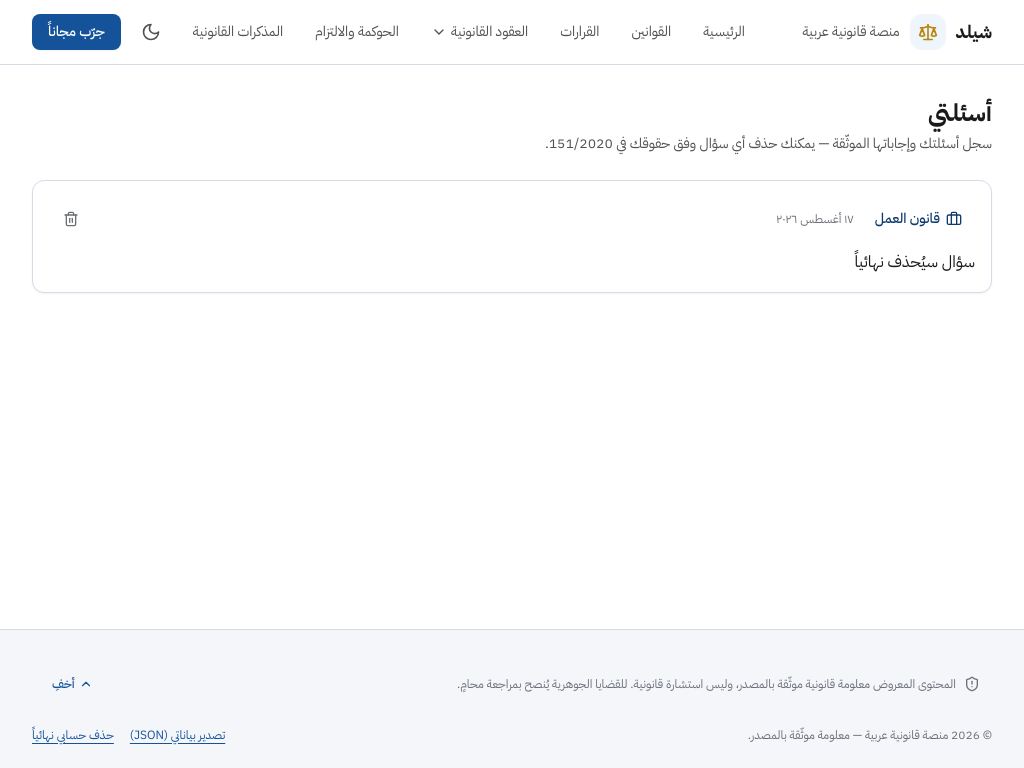
Test case: MyQuestionsPage › يحذف سؤالاً عبر مودال التأكيد → DELETE /questions/{id} ثم يعرض الحالة الفارغة
Expected: the text "سؤال سيُحذف نهائياً" is shown, [854, 250, 975, 274]
فتح مودال التأكيد
Click the button named "حذف السؤال: سؤال سيُحذف نهائياً".
click(71, 219)  # box [49, 197, 93, 241]
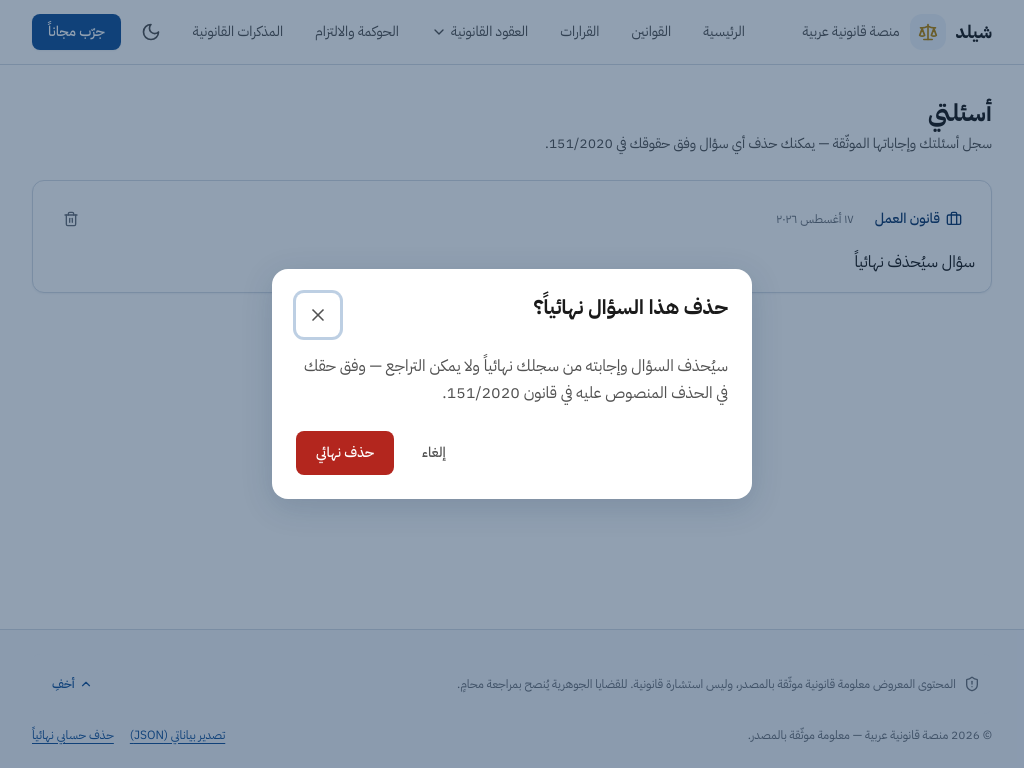
Now the dialog is shown
Click the button "حذف نهائي".
click(345, 453)  # box [296, 431, 394, 475]
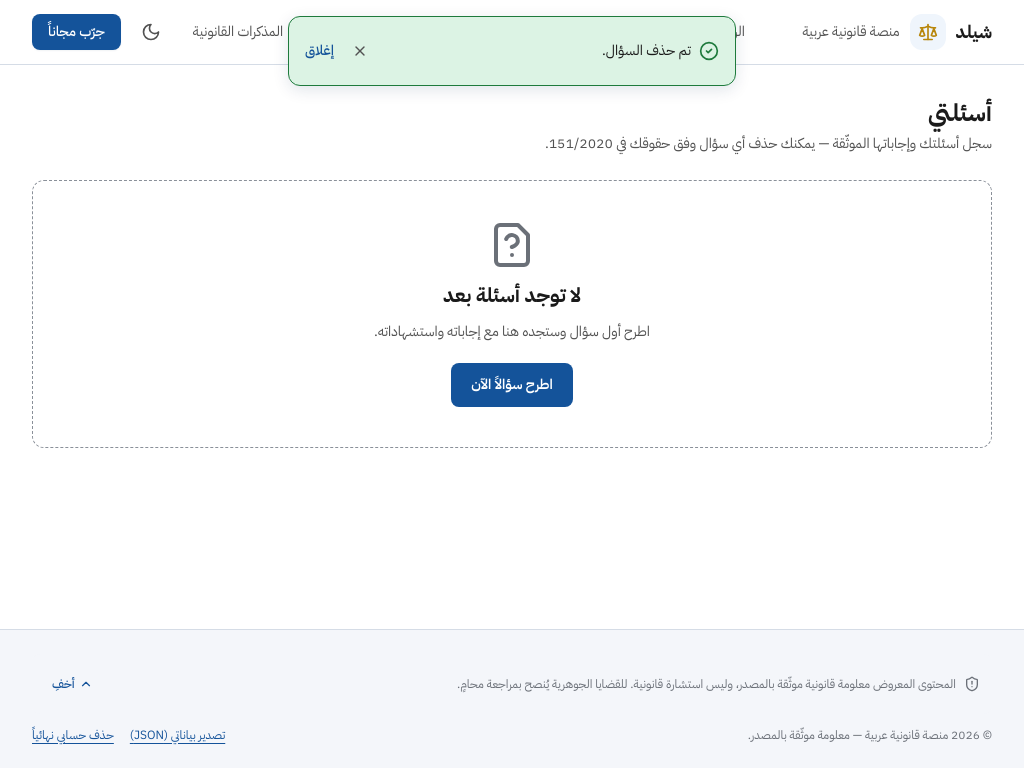
Now the text "سؤال سيُحذف نهائياً" is gone
Now the message shows "تم حذف السؤال.", box [602, 40, 691, 61]
Now the heading "لا توجد أسئلة بعد" is shown, box [443, 281, 581, 309]
